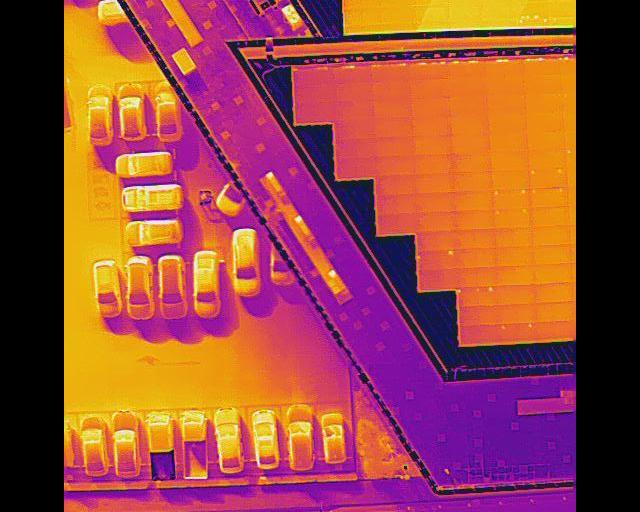Cell-Multi: (530, 186, 568, 208), (492, 186, 530, 208), (418, 248, 455, 269), (459, 285, 495, 306), (496, 322, 534, 341), (494, 208, 530, 228), (528, 168, 566, 186), (519, 1, 549, 19)
No-Anomaly: (410, 77, 451, 99), (375, 174, 416, 195), (456, 246, 495, 268), (374, 136, 414, 157), (376, 155, 416, 176), (336, 137, 376, 158), (377, 193, 417, 214), (332, 101, 373, 121), (485, 74, 526, 94), (453, 170, 492, 191), (534, 301, 573, 322), (417, 211, 454, 233), (450, 114, 490, 134), (454, 209, 494, 229), (455, 266, 495, 286), (295, 82, 333, 103), (333, 82, 375, 101), (531, 206, 569, 227), (413, 97, 451, 118), (454, 228, 496, 247), (451, 133, 489, 154), (452, 151, 490, 172), (414, 135, 452, 156), (374, 117, 413, 137), (533, 282, 572, 302), (531, 244, 570, 264), (453, 190, 492, 210), (297, 100, 332, 122), (450, 75, 485, 97), (420, 267, 455, 289), (378, 213, 416, 233), (534, 320, 572, 340), (492, 168, 530, 188), (495, 304, 535, 323), (531, 225, 569, 245), (490, 132, 528, 152), (417, 192, 453, 213), (495, 245, 531, 266), (489, 93, 525, 114), (373, 100, 412, 119), (450, 96, 489, 115), (527, 132, 566, 151), (338, 158, 375, 178), (491, 150, 528, 170), (534, 263, 571, 283), (335, 119, 376, 137), (526, 112, 564, 131), (496, 285, 534, 304), (490, 113, 526, 133), (416, 173, 452, 193), (373, 81, 410, 100), (371, 63, 408, 82), (495, 266, 532, 285), (417, 230, 454, 249), (460, 305, 495, 325), (416, 156, 451, 176), (524, 75, 560, 94), (413, 118, 451, 136), (525, 94, 562, 112), (528, 150, 565, 168), (461, 324, 496, 343), (495, 227, 530, 246), (294, 67, 333, 84), (377, 8, 413, 25), (413, 6, 450, 22), (345, 9, 378, 26), (548, 0, 576, 16), (345, 0, 379, 9), (411, 0, 450, 7), (378, 0, 412, 8)
Unclassified: (409, 62, 448, 81), (334, 65, 371, 83), (448, 59, 484, 77), (484, 59, 523, 75), (524, 59, 560, 75)
